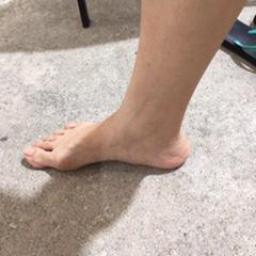Medial View -Right Foot-: (16, 75, 207, 191)
